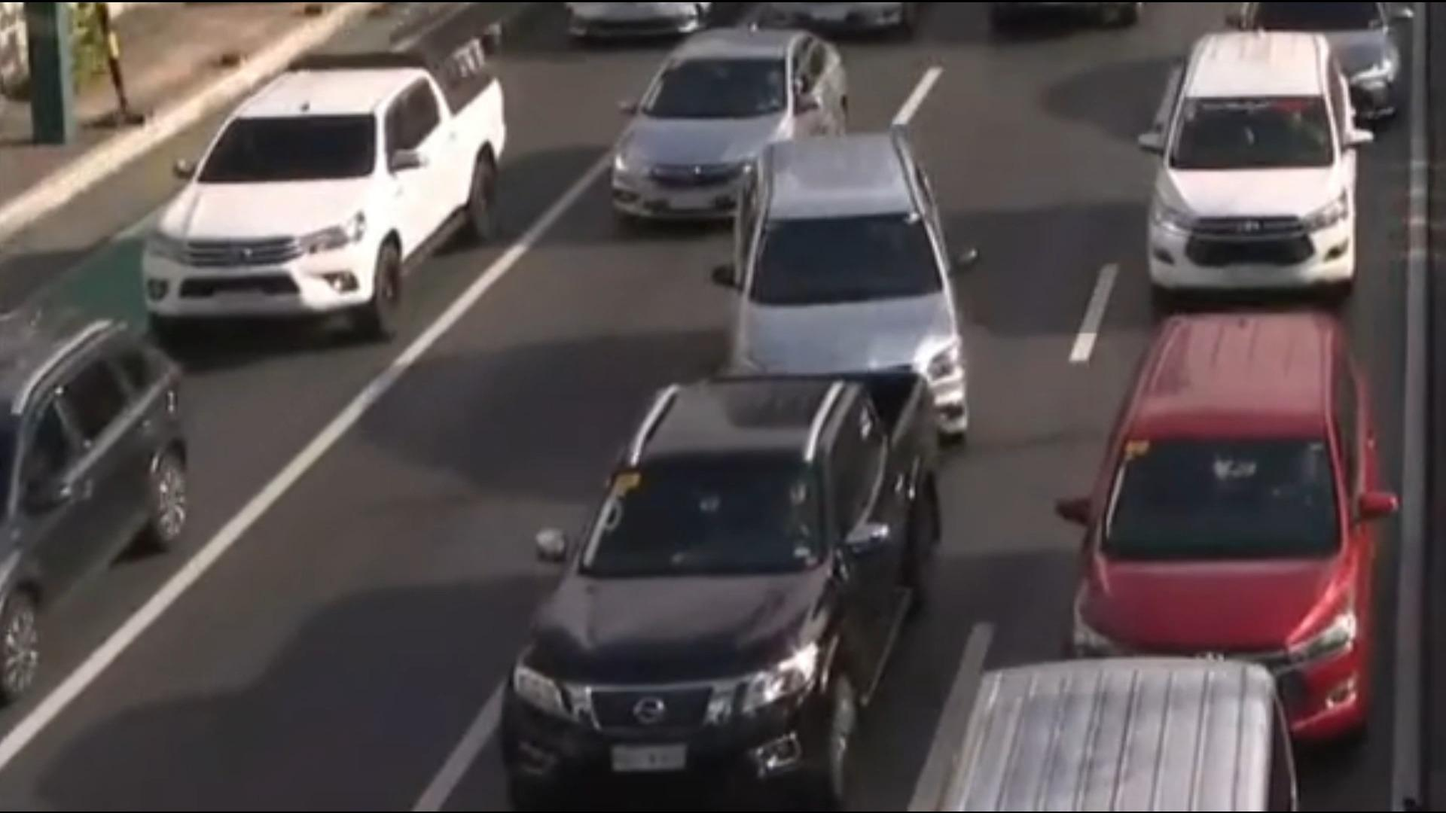Pickup: (472, 352, 976, 801), (120, 29, 533, 363)
SUV: (1051, 285, 1428, 723), (673, 110, 983, 426), (0, 315, 217, 711), (1112, 29, 1386, 306)
Sedan: (578, 12, 865, 217)
Van: (949, 655, 1307, 813)
